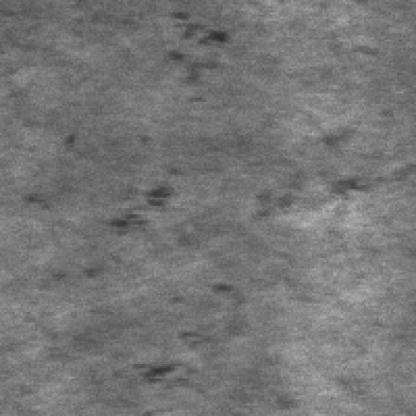rolled-in_scale: (258, 131, 374, 225), (166, 13, 236, 116), (108, 179, 183, 243)
